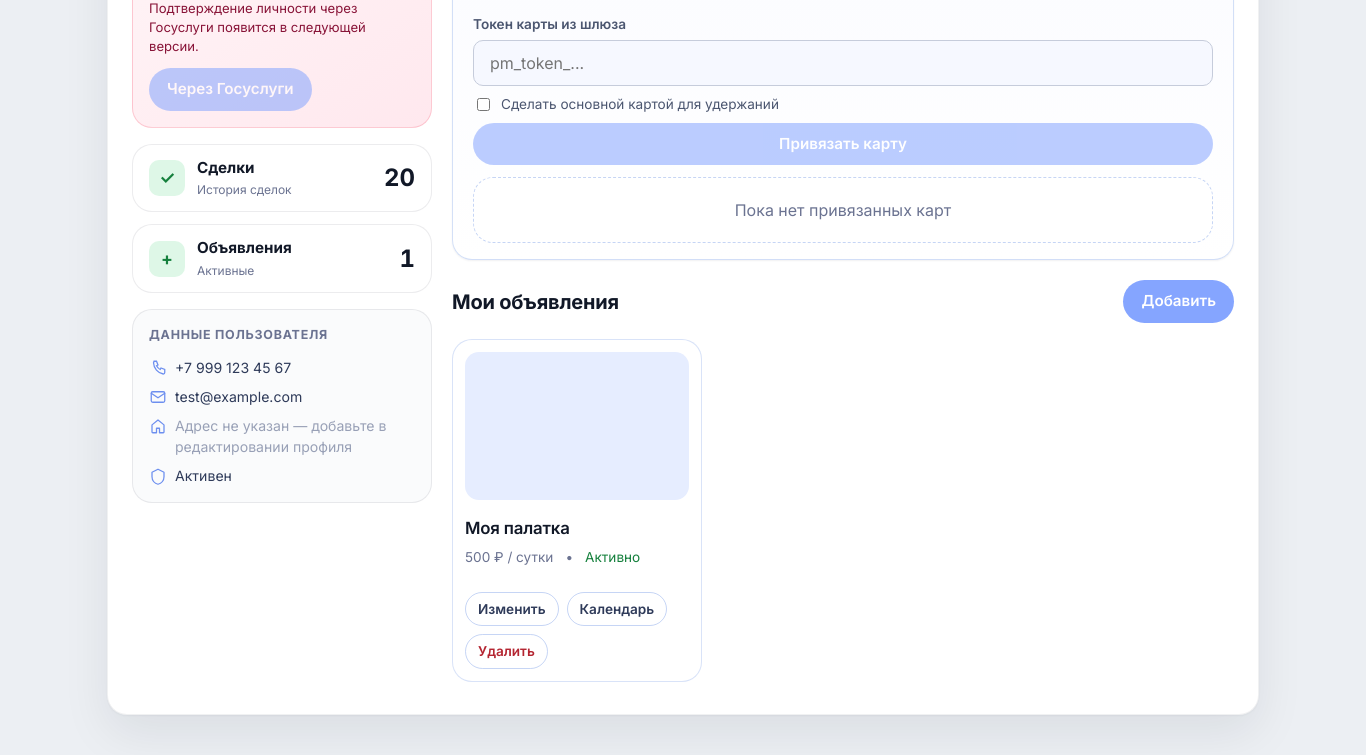
it: ProfilePage › opens delete listing modal and deletes on confirm
The width and height of the screenshot is (1366, 755).
(page scrolled)
Expected: the heading "Моя палатка" is shown, x1=465 y1=518 x2=570 y2=538
Expected: the element "Мои объявления" is shown, x1=452 y1=280 x2=1234 y2=682
Step 1. Click the button "Удалить" → (506, 651), box x1=465 y1=634 x2=548 y2=669
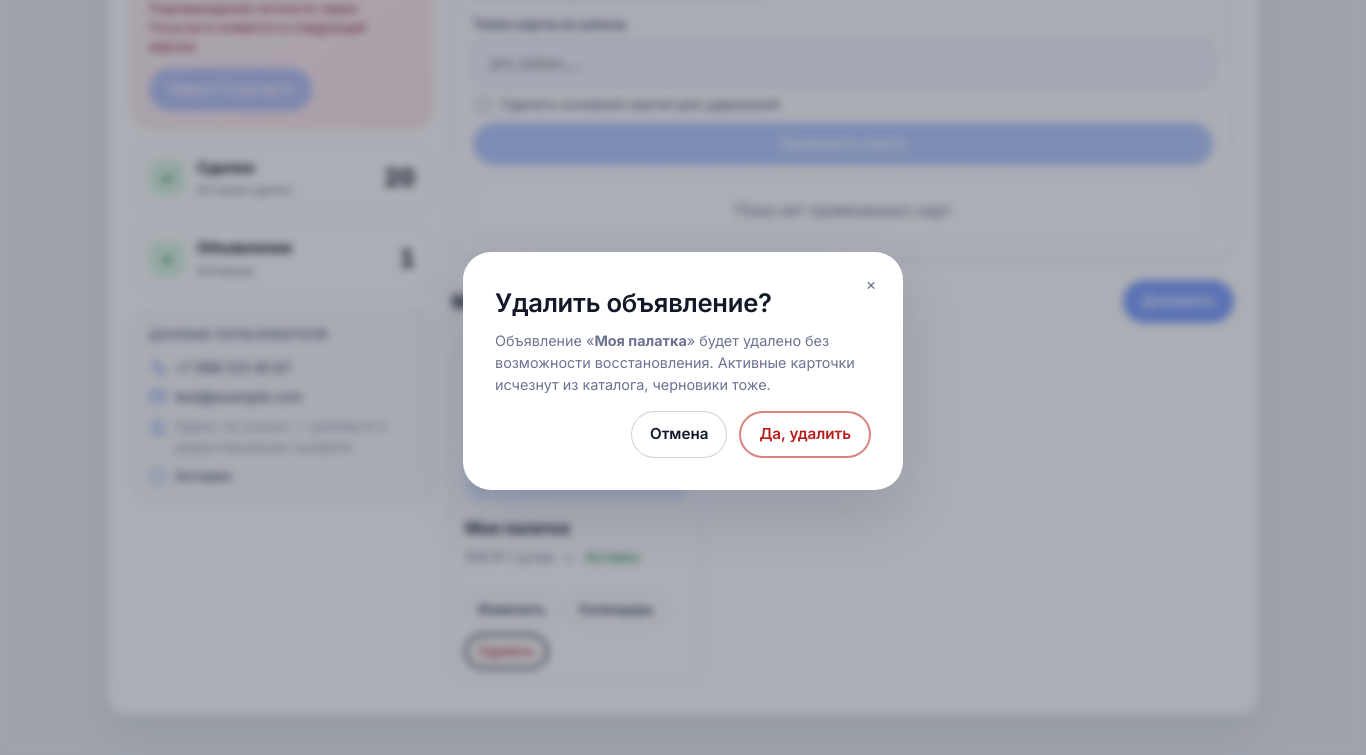
Expected: the heading "Удалить объявление?" is shown, x1=495 y1=287 x2=772 y2=318
Step 2. Click the button "Да, удалить" → (805, 435), box x1=739 y1=411 x2=871 y2=458
(page scrolled)
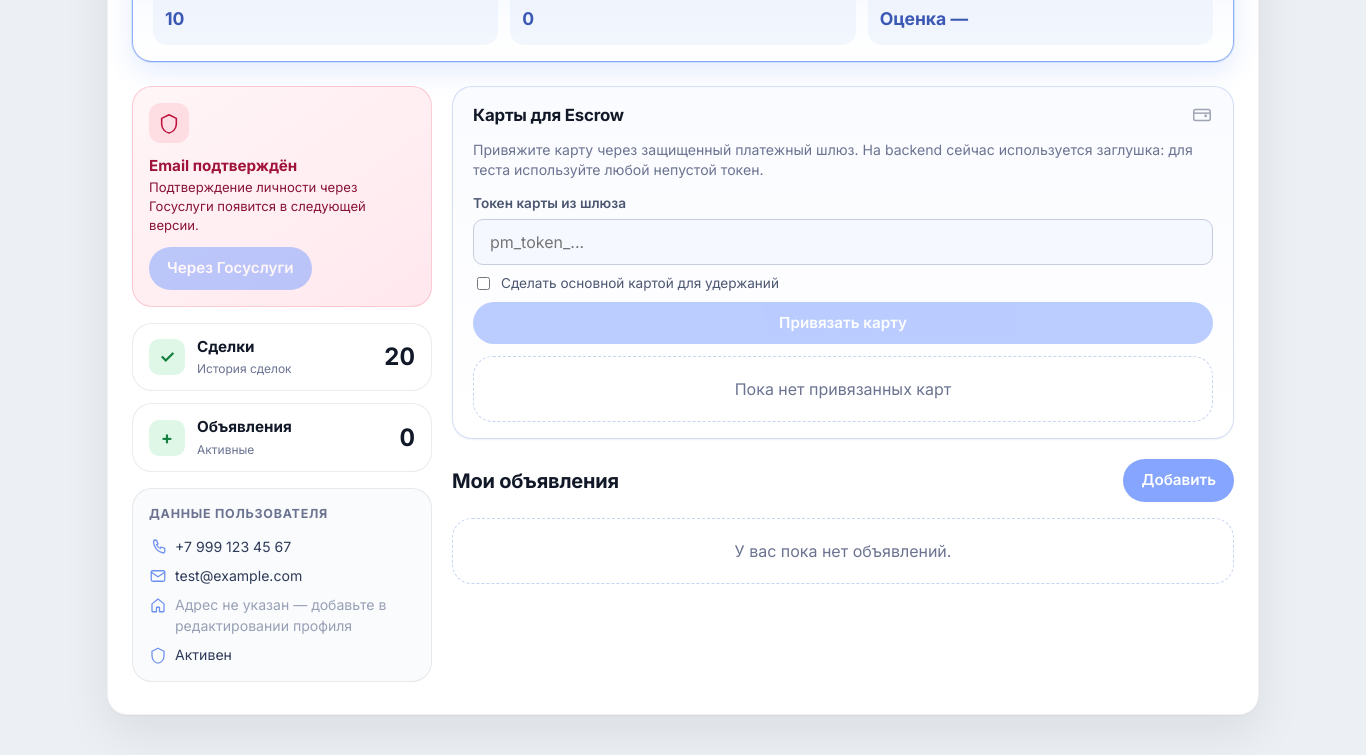
Expected: the heading "Моя палатка" is gone
